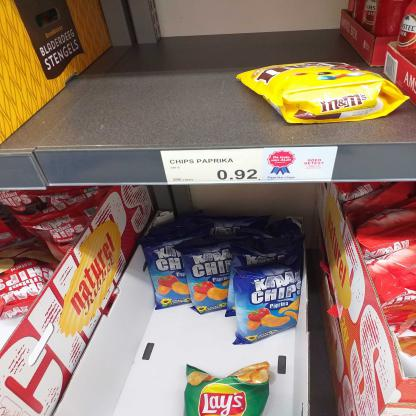prtg: (161, 147, 339, 186)
